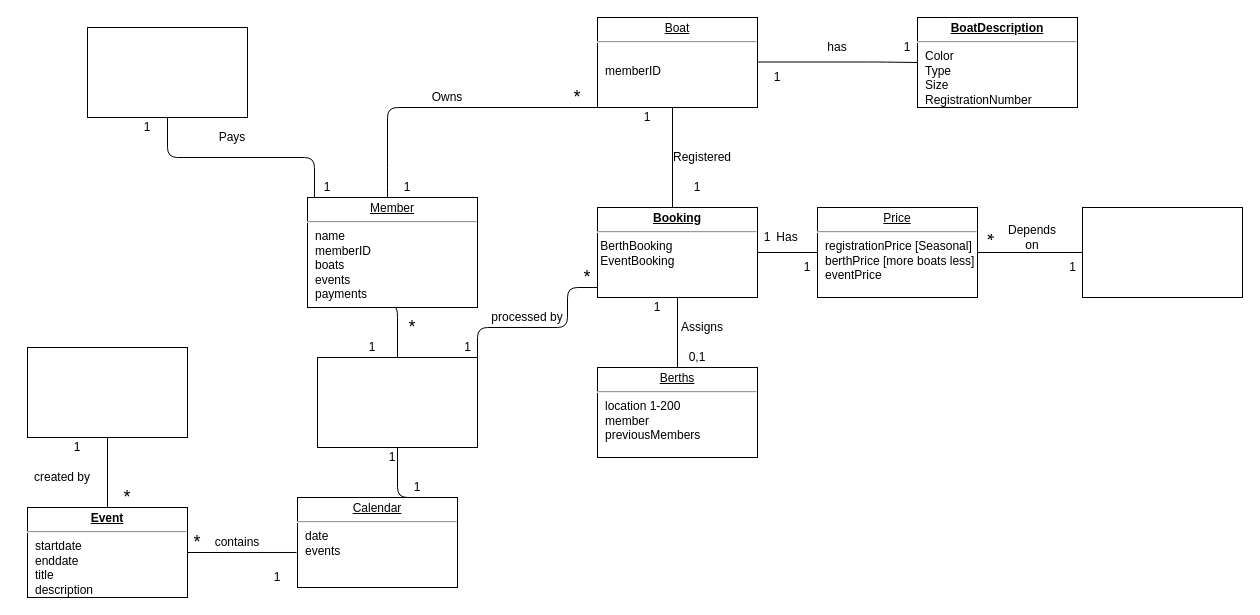
This 1260x615 diagram has some shape labels left out. The shapes that lost their labels are listed below. From the top down, each one's centre as x and y in pixels, then its label:
(167,72): Fee totalFee memebershipFee berthFee eventFee
(1162,252): Season off-season pre-season season
(107,392): Secretery name workID
(397,402): Yachtclub memberList berthList calendar
